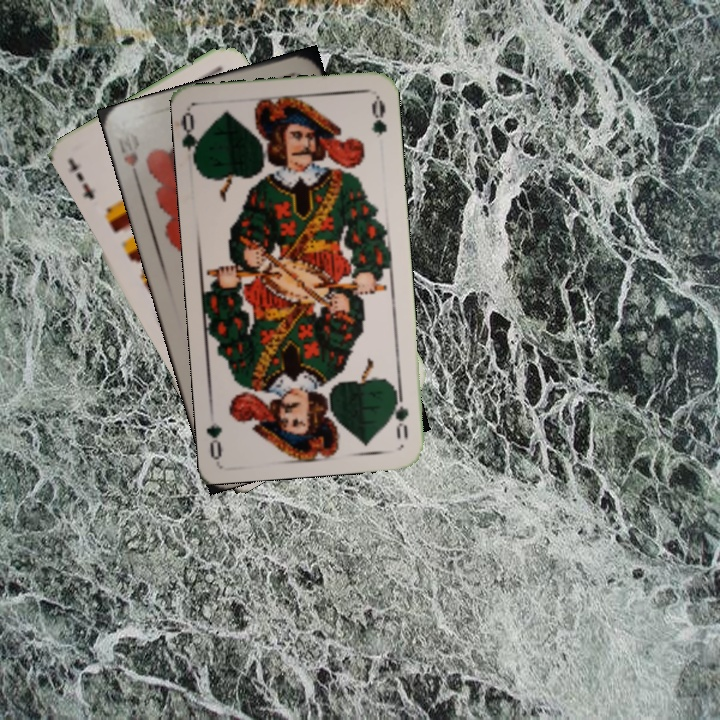E7: (71, 168, 98, 202)
GO: (178, 109, 207, 168), (388, 384, 411, 442)
H10: (119, 148, 142, 186)
